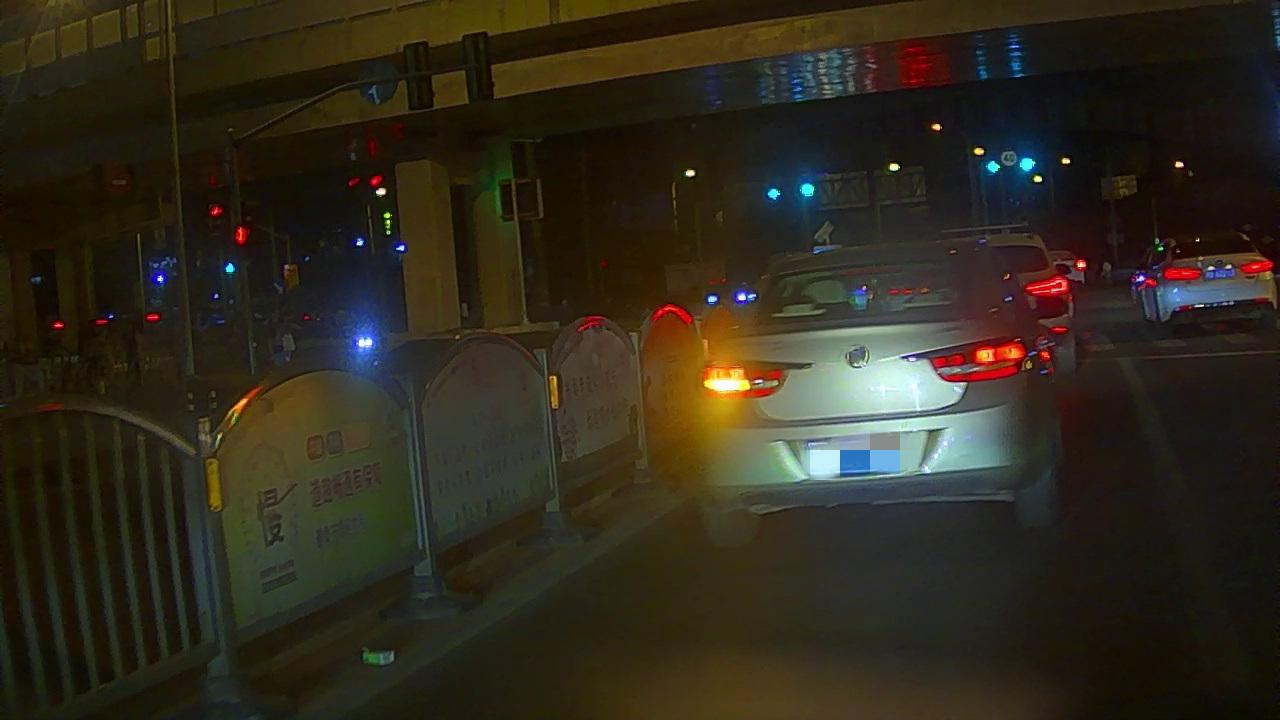traffic_light: (794, 176, 820, 202), (1016, 150, 1040, 178), (981, 153, 1003, 181), (764, 183, 784, 205)
